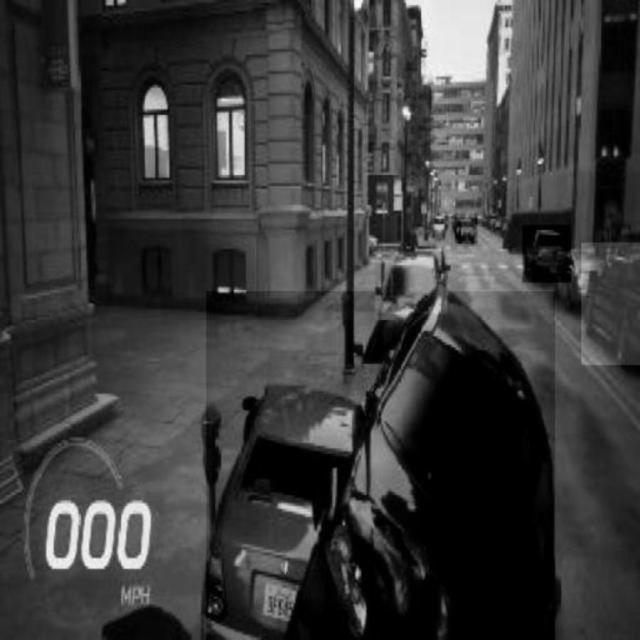accident: (206, 291, 554, 640)
vehicle: (581, 242, 640, 364), (375, 244, 447, 314), (523, 225, 571, 283), (455, 218, 479, 244)
